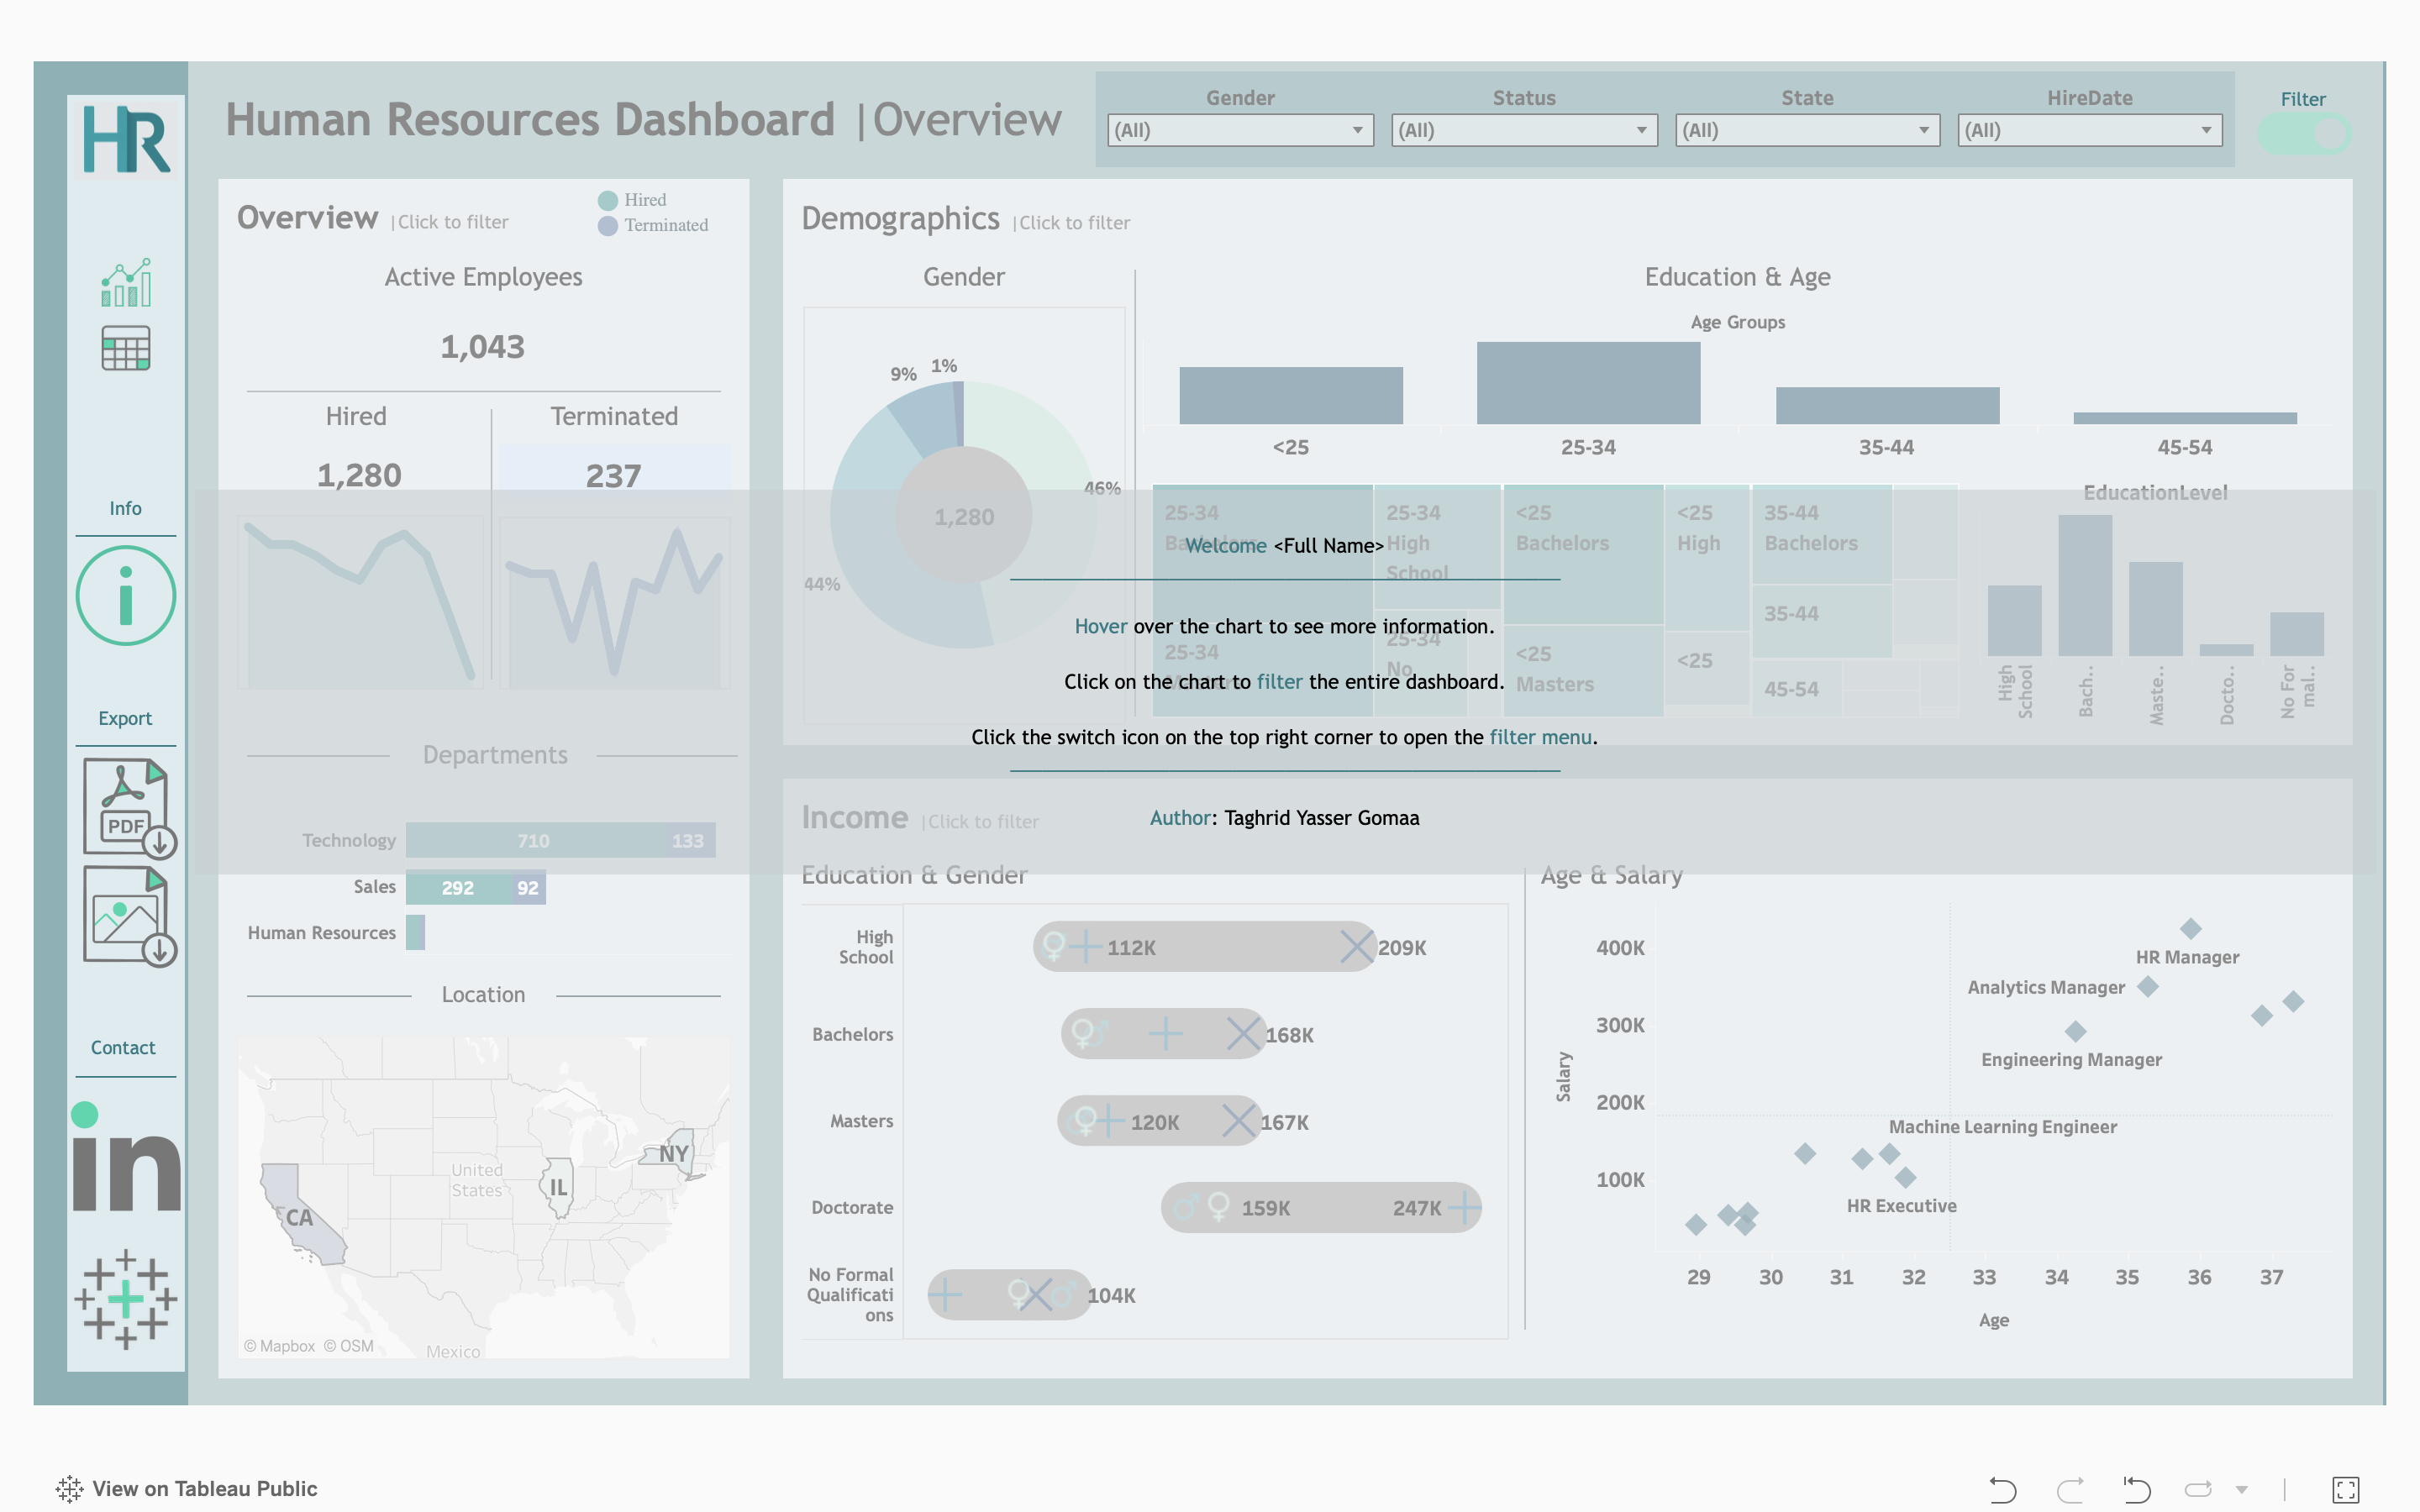

What the dashboard file says about the page in this screenshot:
{"tool":"tableau","page":{"name":"Hr Summary","canvas":[1400,800],"ordinal":0},"visuals":[{"type":"blank","box":[92,0,1306,251]},{"type":"text","box":[110,0,1270,70]},{"type":"text","box":[1299,7,104,31]},{"type":"filter","title":"Gender Vs education level barbel chart","param":"[Flowdatamodel-node-Clean 1-1aa6376a42f14ea39ce7939fb09e41ef].[none:Gender:nk]","box":[634,8,169,53]},{"type":"filter","title":"Gender Vs education level barbel chart","param":"[Flowdatamodel-node-Clean 1-1aa6376a42f14ea39ce7939fb09e41ef].[none:Calculation_","box":[803,8,169,53]},{"type":"filter","title":"Gender Vs education level barbel chart","param":"[Flowdatamodel-node-Clean 1-1aa6376a42f14ea39ce7939fb09e41ef].[none:State:nk]","box":[972,8,168,53]},{"type":"filter","title":"Gender Vs education level barbel chart","param":"[Flowdatamodel-node-Clean 1-1aa6376a42f14ea39ce7939fb09e41ef].[yr:HireDate:ok]","box":[1140,8,168,53]},{"type":"image","param":"Image/Untitled design-4.png","box":[20,20,70,55]},{"type":"dashboard-object","box":[1323,28,57,30]},{"type":"blank","box":[20,75,70,32]},{"type":"text","box":[335,75,100,44]},{"type":"text","box":[117,77,302,31]},{"type":"text","box":[453,77,920,32]},{"type":"text","box":[117,108,302,32]},{"type":"text","box":[453,114,202,26]},{"type":"blank","box":[655,114,1,286]},{"type":"text","box":[656,114,717,26]},{"type":"dashboard-object","box":[30,117,50,29]},{"type":"worksheet","title":"Active","mark":"Automatic","box":[117,140,302,55]},{"type":"worksheet","title":"Gender","mark":"Pie","cols":["Calculation_3805541751698436097","Calculation_3805541751698526211"],"box":[453,140,202,260]},{"type":"worksheet","title":"Age group","mark":"Automatic","rows":["Calculation_3365314887730941952"],"cols":["Calculation_544372605614809088"],"box":[656,140,717,101]},{"type":"blank","box":[30,146,50,10]},{"type":"dashboard-object","box":[30,156,50,29]},{"type":"blank","box":[20,195,70,60]},{"type":"blank","box":[117,195,302,1]},{"type":"text","box":[117,196,155,26]},{"type":"blank","box":[272,196,1,181]},{"type":"text","box":[273,196,146,26]},{"type":"worksheet","title":"Hired","mark":"Automatic","box":[117,222,155,42]},{"type":"worksheet","title":"Terminated","mark":"Automatic","box":[273,222,146,43]},{"type":"worksheet","title":"Age Groups","mark":"Automatic","box":[656,241,498,159]},{"type":"worksheet","title":"Edu level  ","mark":"Automatic","rows":["Calculation_3365314887730941952"],"cols":["EducationLevel"],"box":[1154,241,219,159]},{"type":"text","box":[92,251,1306,237]},{"type":"text","box":[20,255,70,21]},{"type":"worksheet","title":"Hired By Year","mark":"Automatic","rows":["Calculation_3365314887730941952","Calculation_3365314887730941952"],"cols":["HireDate"],"box":[117,264,155,113]},{"type":"worksheet","title":"Terminated By year","mark":"Line","rows":["Calculation_3365314887769034754","Calculation_3365314887769034754"],"cols":["HireDate"],"box":[273,265,146,112]},{"type":"blank","box":[20,276,70,11]},{"type":"dashboard-object","box":[20,287,70,60]},{"type":"blank","box":[20,347,70,32]},{"type":"text","box":[20,379,70,21]},{"type":"blank","box":[117,382,95,58]},{"type":"text","box":[212,382,122,58]},{"type":"blank","box":[334,382,85,58]},{"type":"blank","box":[20,400,70,11]},{"type":"dashboard-object","box":[20,411,70,64]},{"type":"text","box":[453,434,920,31]},{"type":"worksheet","title":"Dept","mark":"Automatic","rows":["Department"],"cols":["Calculation_3365314887730941952"],"box":[117,445,302,90]},{"type":"text","box":[453,470,429,26]},{"type":"blank","box":[887,470,1,295]},{"type":"text","box":[893,470,480,26]},{"type":"dashboard-object","box":[20,475,70,64]},{"type":"blank","box":[92,488,1306,312]},{"type":"worksheet","title":"Gender Vs education level barbel chart","mark":"Square","rows":["EducationLevel"],"cols":["Salary","Salary"],"box":[453,496,429,269]},{"type":"worksheet","title":"Age Vs. Salary","mark":"Automatic","rows":["Salary"],"cols":["Age"],"box":[893,496,480,269]},{"type":"blank","box":[20,539,70,32]},{"type":"blank","box":[127,540,98,30]},{"type":"text","box":[225,540,86,30]},{"type":"blank","box":[311,540,98,30]},{"type":"text","box":[20,571,70,25]},{"type":"worksheet","title":"State Dis","mark":"Automatic","box":[117,575,302,202]},{"type":"blank","box":[20,596,70,11]},{"type":"image","param":"Image/contact-linkedin.png","box":[20,607,70,86.5]},{"type":"image","param":"Image/contact-public.png","box":[20,693.5,70,86.5]}]}

Visuals, with their boxes on the page's 1400x800 design canvas (x1, y1, x2, y2). These are canvas units, not pixel positions in the 2420x1512 screenshot, which may show the page scaled, cropped or inside an application window:
blank: <region>92, 0, 1398, 251</region>
text: <region>110, 0, 1380, 70</region>
text: <region>1299, 7, 1403, 38</region>
"Gender Vs education level barbel chart" filter: <region>634, 8, 803, 61</region>
"Gender Vs education level barbel chart" filter: <region>803, 8, 972, 61</region>
"Gender Vs education level barbel chart" filter: <region>972, 8, 1140, 61</region>
"Gender Vs education level barbel chart" filter: <region>1140, 8, 1308, 61</region>
image: <region>20, 20, 90, 75</region>
dashboard-object: <region>1323, 28, 1380, 58</region>
blank: <region>20, 75, 90, 107</region>
text: <region>335, 75, 435, 119</region>
text: <region>117, 77, 419, 108</region>
text: <region>453, 77, 1373, 109</region>
text: <region>117, 108, 419, 140</region>
text: <region>453, 114, 655, 140</region>
blank: <region>655, 114, 656, 400</region>
text: <region>656, 114, 1373, 140</region>
dashboard-object: <region>30, 117, 80, 146</region>
"Active" worksheet: <region>117, 140, 419, 195</region>
"Gender" worksheet (Pie marks): <region>453, 140, 655, 400</region>
"Age group" worksheet: <region>656, 140, 1373, 241</region>
blank: <region>30, 146, 80, 156</region>
dashboard-object: <region>30, 156, 80, 185</region>
blank: <region>20, 195, 90, 255</region>
blank: <region>117, 195, 419, 196</region>
text: <region>117, 196, 272, 222</region>
blank: <region>272, 196, 273, 377</region>
text: <region>273, 196, 419, 222</region>
"Hired" worksheet: <region>117, 222, 272, 264</region>
"Terminated" worksheet: <region>273, 222, 419, 265</region>
"Age Groups" worksheet: <region>656, 241, 1154, 400</region>
"Edu level  " worksheet: <region>1154, 241, 1373, 400</region>
text: <region>92, 251, 1398, 488</region>
text: <region>20, 255, 90, 276</region>
"Hired By Year" worksheet: <region>117, 264, 272, 377</region>
"Terminated By year" worksheet (Line marks): <region>273, 265, 419, 377</region>
blank: <region>20, 276, 90, 287</region>
dashboard-object: <region>20, 287, 90, 347</region>
blank: <region>20, 347, 90, 379</region>
text: <region>20, 379, 90, 400</region>
blank: <region>117, 382, 212, 440</region>
text: <region>212, 382, 334, 440</region>
blank: <region>334, 382, 419, 440</region>
blank: <region>20, 400, 90, 411</region>
dashboard-object: <region>20, 411, 90, 475</region>
text: <region>453, 434, 1373, 465</region>
"Dept" worksheet: <region>117, 445, 419, 535</region>
text: <region>453, 470, 882, 496</region>
blank: <region>887, 470, 888, 765</region>
text: <region>893, 470, 1373, 496</region>
dashboard-object: <region>20, 475, 90, 539</region>
blank: <region>92, 488, 1398, 800</region>
"Gender Vs education level barbel chart" worksheet (Square marks): <region>453, 496, 882, 765</region>
"Age Vs. Salary" worksheet: <region>893, 496, 1373, 765</region>
blank: <region>20, 539, 90, 571</region>
blank: <region>127, 540, 225, 570</region>
text: <region>225, 540, 311, 570</region>
blank: <region>311, 540, 409, 570</region>
text: <region>20, 571, 90, 596</region>
"State Dis" worksheet: <region>117, 575, 419, 777</region>
blank: <region>20, 596, 90, 607</region>
image: <region>20, 607, 90, 694</region>
image: <region>20, 694, 90, 780</region>
